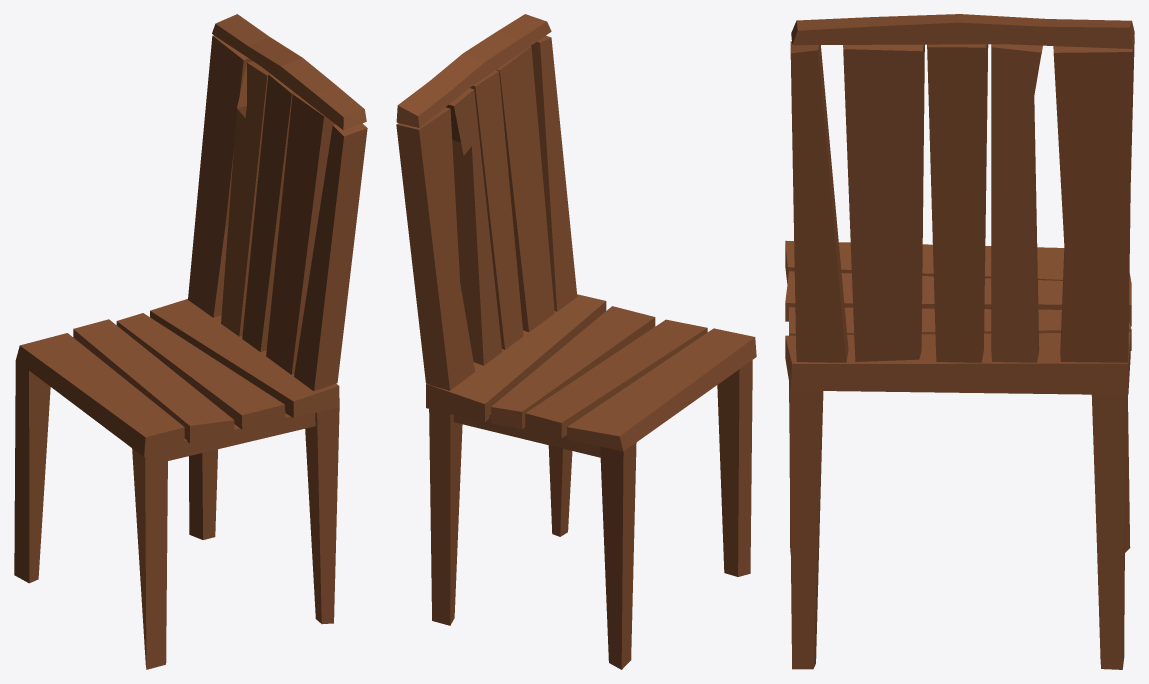
Rendered from chairwoodsimple02.obj.
3 views of the same model, side by side, from view 1: azimuth 30°, elevation 25°; view 2: azimuth 150°, elevation 25°; view 3: azimuth 270°, elevation 25° (orthographic). The views are drawn at different scales.
Parts seen in each view (by area): view 1: Cube_Cube.001; view 2: Cube_Cube.001; view 3: Cube_Cube.001.
Boxes of the visible parts, left/top/right/bottom form: Cube_Cube.001: left=14, top=14, right=367, bottom=669; Cube_Cube.001: left=396, top=14, right=756, bottom=669; Cube_Cube.001: left=785, top=14, right=1134, bottom=669.
Bounding box in the file's own units: 0.4918 × 1.06 × 0.5047.
